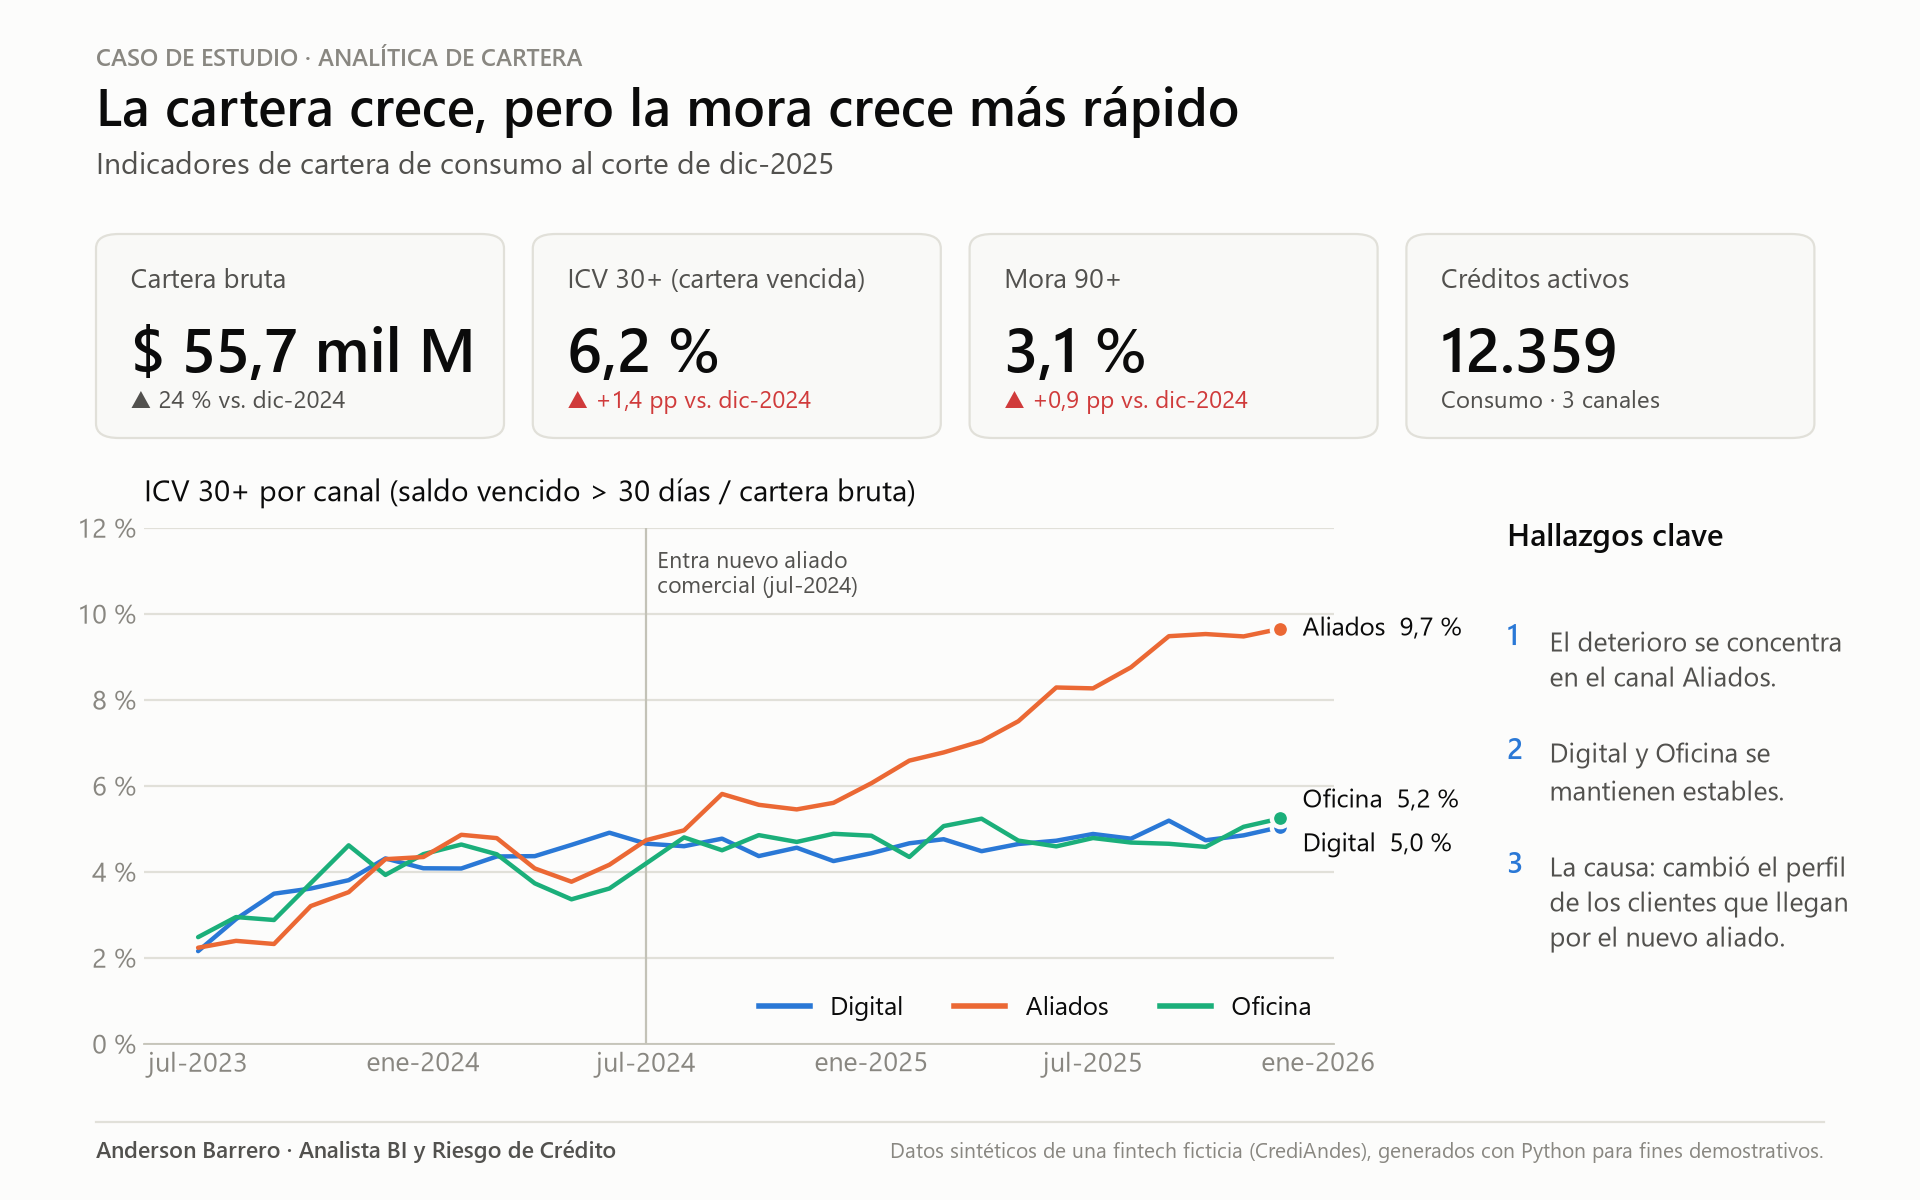

This screenshot's page, from the dashboard's own definition file:
{"tool":"powerbi","page":{"name":"Resumen","canvas":[1280,720],"ordinal":0},"visuals":[{"type":"textbox","box":[20,8,1240,64],"z":0},{"type":"card","title":"Cartera bruta","fields":{"Values":["Medidas.Cartera Bruta (último corte)"]},"box":[20,80,300,110],"z":1000},{"type":"card","title":"ICV 30+","fields":{"Values":["Medidas.ICV 30+ (último corte)"]},"box":[335,80,300,110],"z":2000},{"type":"card","title":"Mora 90+","fields":{"Values":["Medidas.Mora 90+ (último corte)"]},"box":[650,80,300,110],"z":3000},{"type":"card","title":"Variación ICV 30+ en 12 meses","fields":{"Values":["Medidas.Var ICV 30+ 12M (pp)"]},"box":[965,80,295,110],"z":4000},{"type":"lineChart","title":"ICV 30+ por canal","fields":{"Category":["Calendario.Inicio de mes"],"Series":["creditos.canal"],"Y":["Medidas.ICV 30+"]},"box":[20,205,900,495],"z":5000},{"type":"slicer","title":"Canal","fields":{"Values":["creditos.canal"]},"box":[940,205,320,150],"z":6000},{"type":"slicer","title":"Producto","fields":{"Values":["creditos.producto"]},"box":[940,370,320,150],"z":7000},{"type":"slicer","title":"Ciudad","fields":{"Values":["creditos.ciudad"]},"box":[940,535,320,165],"z":8000}]}

Visuals, with their boxes on the page's 1280x720 design canvas (x1, y1, x2, y2). These are canvas units, not pixel positions in the 1920x1200 screenshot, which may show the page scaled, cropped or inside an application window:
textbox: box(20, 8, 1260, 72)
"Cartera bruta" card: box(20, 80, 320, 190)
"ICV 30+" card: box(335, 80, 635, 190)
"Mora 90+" card: box(650, 80, 950, 190)
"Variación ICV 30+ en 12 meses" card: box(965, 80, 1260, 190)
"ICV 30+ por canal" lineChart: box(20, 205, 920, 700)
"Canal" slicer: box(940, 205, 1260, 355)
"Producto" slicer: box(940, 370, 1260, 520)
"Ciudad" slicer: box(940, 535, 1260, 700)
